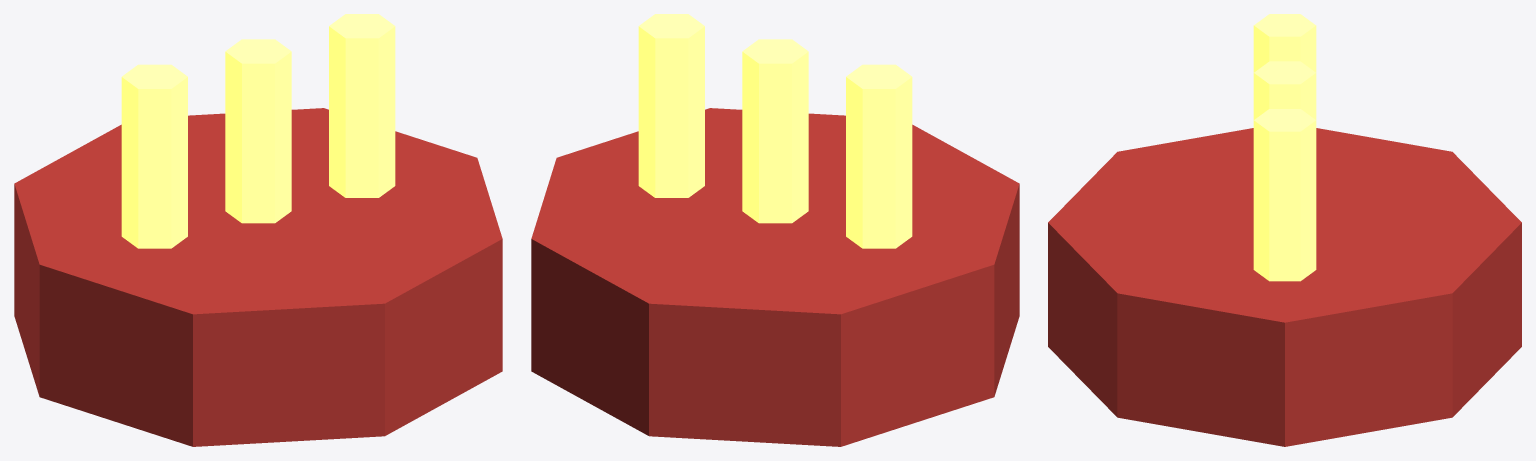
File: noodles.glb
3 views of the same model, side by side, from view 1: azimuth 30°, elevation 25°; view 2: azimuth 150°, elevation 25°; view 3: azimuth 270°, elevation 25° (orthographic). The views are drawn at different scales.
Parts seen in each view (by area): view 1: bowl, noodle.001, noodle, noodle.002; view 2: bowl, noodle.001, noodle, noodle.002; view 3: bowl, noodle.002, noodle, noodle.001.
Boxes of the visible parts, <box> form: bowl: <box>14,108,502,446</box>; noodle.001: <box>225,39,291,223</box>; noodle: <box>121,64,187,248</box>; noodle.002: <box>329,14,395,197</box>; bowl: <box>531,108,1019,446</box>; noodle.001: <box>742,39,808,223</box>; noodle: <box>846,64,912,248</box>; noodle.002: <box>638,14,704,197</box>; bowl: <box>1048,128,1521,446</box>; noodle.002: <box>1253,109,1316,281</box>; noodle: <box>1253,14,1316,72</box>; noodle.001: <box>1253,61,1316,119</box>.
Bounding box in the file's own units: 0.76 × 0.485 × 0.76.
